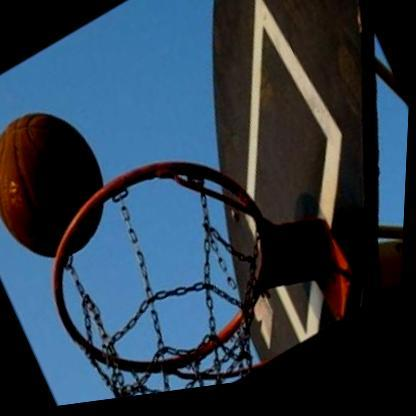basketball: (0, 76, 140, 291)
